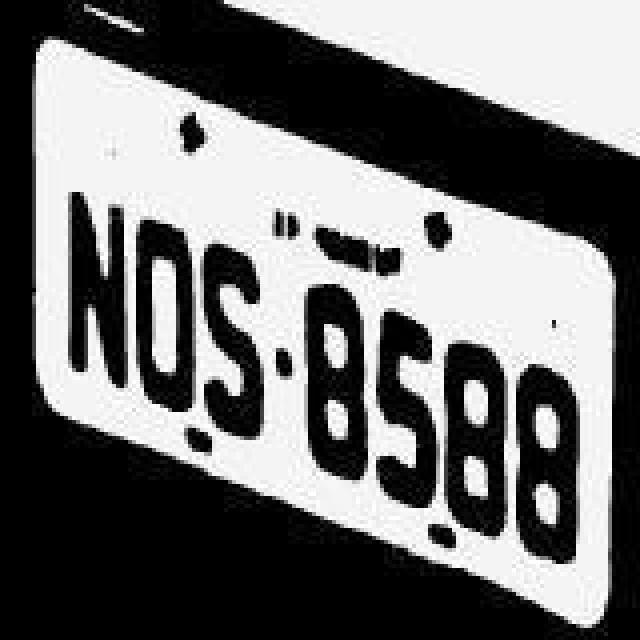5: (366, 304, 442, 512)
8: (514, 338, 590, 582), (294, 276, 370, 500), (446, 294, 514, 538)
N: (48, 174, 128, 402)
O: (124, 204, 196, 420)
S: (198, 232, 274, 440)
